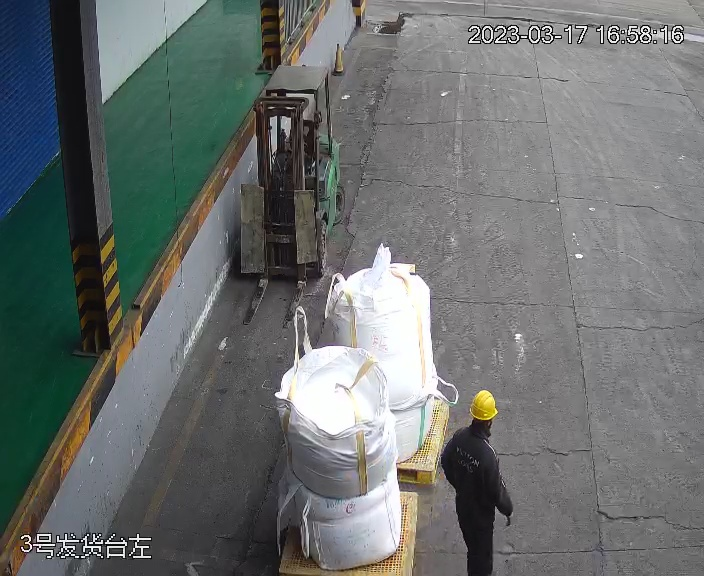head: (444, 388, 504, 466)
helmet: (469, 389, 499, 421)
people: (439, 388, 514, 576)
